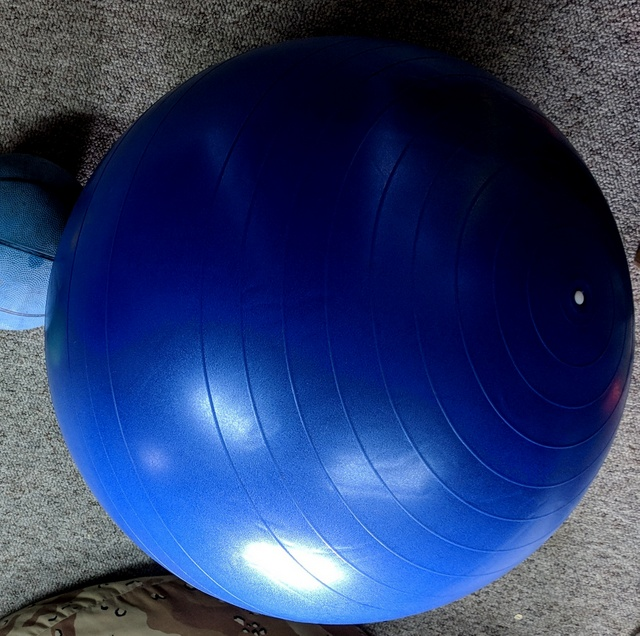ball: (41, 35, 632, 625)
